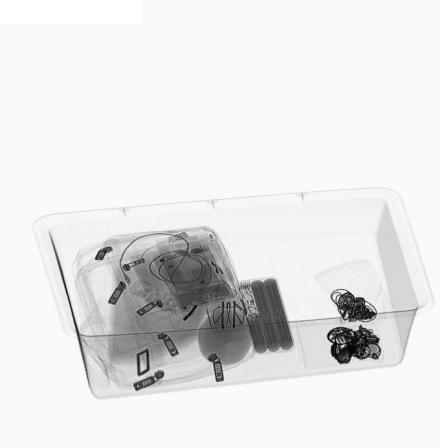Powerbank: (234, 276, 298, 356)
